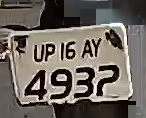1: (58, 40, 65, 62)
2: (97, 64, 123, 99)
3: (71, 64, 95, 98)
4: (25, 67, 48, 101)
6: (64, 39, 77, 62)
9: (49, 67, 70, 100)
A: (80, 38, 94, 60)
P: (44, 41, 56, 64)
U: (33, 43, 44, 63)
Y: (90, 36, 103, 60)
